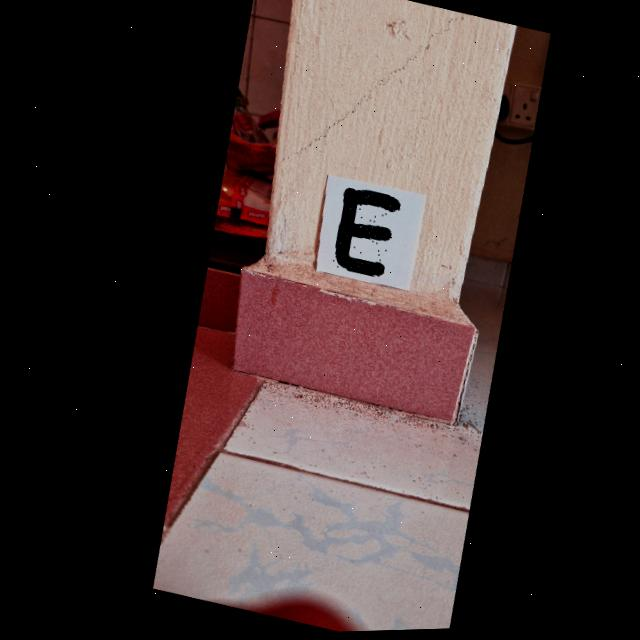E: (330, 190, 394, 278)
